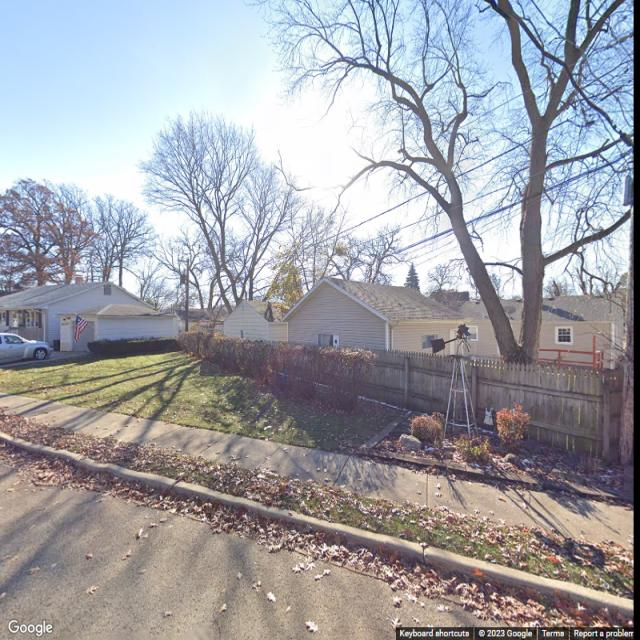House: (287, 273, 625, 362), (0, 280, 178, 351), (227, 296, 288, 340)
